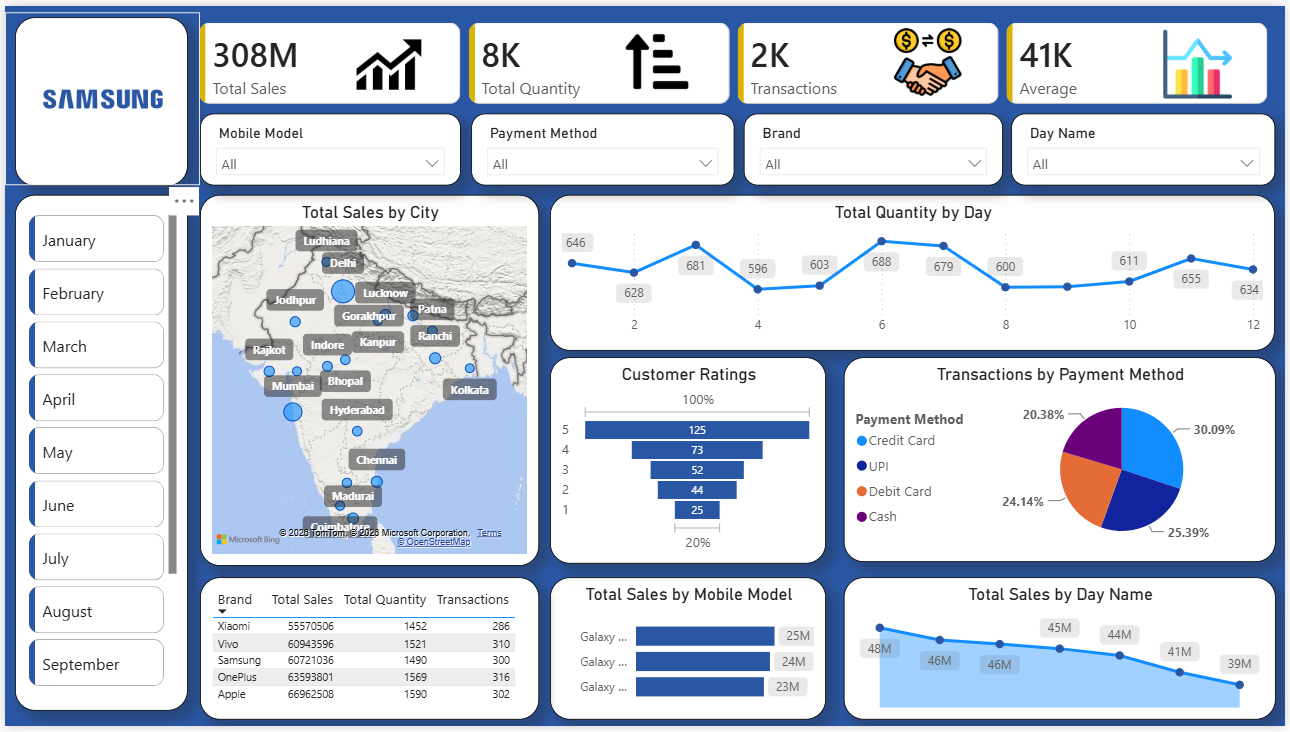

The page's visual inventory and layout, read from the dashboard file:
{"tool":"powerbi","page":{"name":"Page 1","canvas":[1280,720],"ordinal":0},"visuals":[{"type":"shape","box":[9.7,10.9,172.5,168.9],"z":0},{"type":"shape","box":[9.7,188.2,172.5,516.4],"z":1000},{"type":"advancedSlicerVisual","fields":{"Values":["Sales_Data.Dates.Variation.Date Hierarchy.Month"]},"box":[19.3,203.9,158,486.2],"z":2000},{"type":"cardVisual","fields":{"Data":["Sales_Data.Total Sales","Sales_Data.Total Quantity","Sales_Data.Transactions","Sales_Data.Average"]},"box":[177.3,0,1102.7,115.8],"z":3000},{"type":"image","box":[339,26.5,90.5,65.1],"z":4000},{"type":"image","box":[598.4,20.5,106.2,71.2],"z":5000},{"type":"image","box":[878.3,20.5,88.1,72.4],"z":6000},{"type":"image","box":[1146.1,24.1,92.9,68.8],"z":7000},{"type":"map","fields":{"Category":["Sales_Data.City"],"Size":["Sales_Data.Total Sales"]},"box":[195.4,188.2,339,371.6],"z":8000},{"type":"lineChart","fields":{"Y":["Sales_Data.Total Quantity"],"Category":["Sales_Data.Dates.Variation.Date Hierarchy.Month","Sales_Data.Dates.Variation.Date Hierarchy.Day"]},"box":[545.3,188.2,725.1,155.6],"z":9000},{"type":"clusteredBarChart","fields":{"Category":["Sales_Data.Mobile Model"],"Y":["Sales_Data.Total Sales"]},"box":[545.3,571.9,276.3,142.4],"z":10000},{"type":"pieChart","fields":{"Category":["Sales_Data.Payment Method"],"Y":["Sales_Data.Transactions"]},"box":[838.5,351.1,431.9,205.1],"z":11000},{"type":"funnel","title":"Customer Ratings","fields":{"Category":["Sales_Data.Customer Ratings"],"Y":["CountNonNull(Sales_Data.Customer Ratings)"]},"box":[545.3,351.1,276.3,206.3],"z":12000},{"type":"image","box":[0,6,195.4,173.7],"z":13000},{"type":"areaChart","fields":{"Category":["Sales_Data.Day Name"],"Y":["Sales_Data.Total Sales"]},"box":[838.5,571.9,431.9,142.4],"z":14000},{"type":"tableEx","fields":{"Values":["Sales_Data.Brand","Sales_Data.Total Sales","Sales_Data.Total Quantity","Sales_Data.Transactions"]},"box":[195.4,571.9,339,142.4],"z":15000},{"type":"slicer","fields":{"Values":["Sales_Data.Mobile Model"]},"box":[195.4,107.4,260.6,72.4],"z":16000},{"type":"slicer","fields":{"Values":["Sales_Data.Payment Method"]},"box":[465.7,107.4,263,72.4],"z":16001},{"type":"slicer","fields":{"Values":["Sales_Data.Brand"]},"box":[738.3,107.4,259.4,72.4],"z":16002},{"type":"slicer","fields":{"Values":["Sales_Data.Day Name"]},"box":[1006.2,107.4,264.2,72.4],"z":16003}]}

Visuals, with their boxes in screenshot pixels (x1, y1, x2, y2), scaled from the page's 1280x720 canvas onto the 1290x732 screenshot:
shape: x1=10 y1=11 x2=184 y2=183
shape: x1=10 y1=191 x2=184 y2=716
advancedSlicerVisual - Sales_Data.Dates.Variation.Date Hierarchy.Month: x1=19 y1=207 x2=179 y2=702
cardVisual - Sales_Data.Total Sales x Sales_Data.Total Quantity: x1=179 y1=0 x2=1289 y2=118
image: x1=342 y1=27 x2=433 y2=93
image: x1=603 y1=21 x2=710 y2=93
image: x1=885 y1=21 x2=974 y2=94
image: x1=1155 y1=25 x2=1249 y2=94
map - Sales_Data.City x Sales_Data.Total Sales: x1=197 y1=191 x2=539 y2=569
lineChart - Sales_Data.Total Quantity x Sales_Data.Dates.Variation.Date Hierarchy.Month: x1=550 y1=191 x2=1280 y2=350
clusteredBarChart - Sales_Data.Mobile Model x Sales_Data.Total Sales: x1=550 y1=581 x2=828 y2=726
pieChart - Sales_Data.Payment Method x Sales_Data.Transactions: x1=845 y1=357 x2=1280 y2=565
"Customer Ratings" funnel: x1=550 y1=357 x2=828 y2=567
image: x1=0 y1=6 x2=197 y2=183
areaChart - Sales_Data.Day Name x Sales_Data.Total Sales: x1=845 y1=581 x2=1280 y2=726
tableEx - Sales_Data.Brand x Sales_Data.Total Sales: x1=197 y1=581 x2=539 y2=726
slicer - Sales_Data.Mobile Model: x1=197 y1=109 x2=460 y2=183
slicer - Sales_Data.Payment Method: x1=469 y1=109 x2=734 y2=183
slicer - Sales_Data.Brand: x1=744 y1=109 x2=1005 y2=183
slicer - Sales_Data.Day Name: x1=1014 y1=109 x2=1280 y2=183
